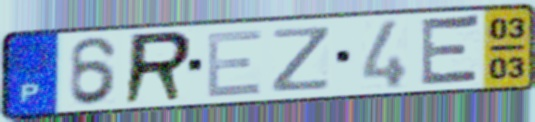4: (359, 17, 410, 91)
6: (67, 34, 119, 108)
E: (417, 12, 484, 89), (204, 27, 265, 100)
R: (119, 28, 196, 108)
Z: (269, 24, 335, 95)
